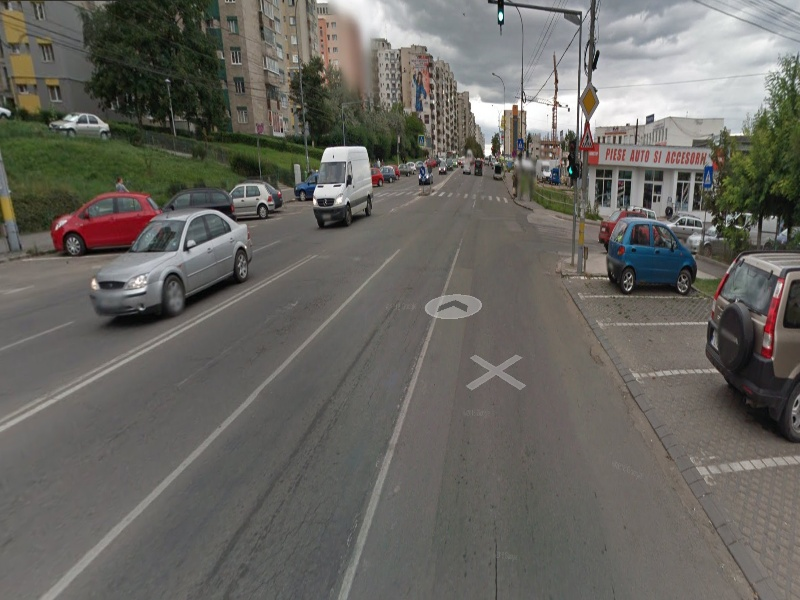crosswalk: (371, 189, 512, 207)
crosswalk_sign: (700, 166, 713, 187)
semaphore: (564, 136, 583, 182), (493, 1, 507, 27)
